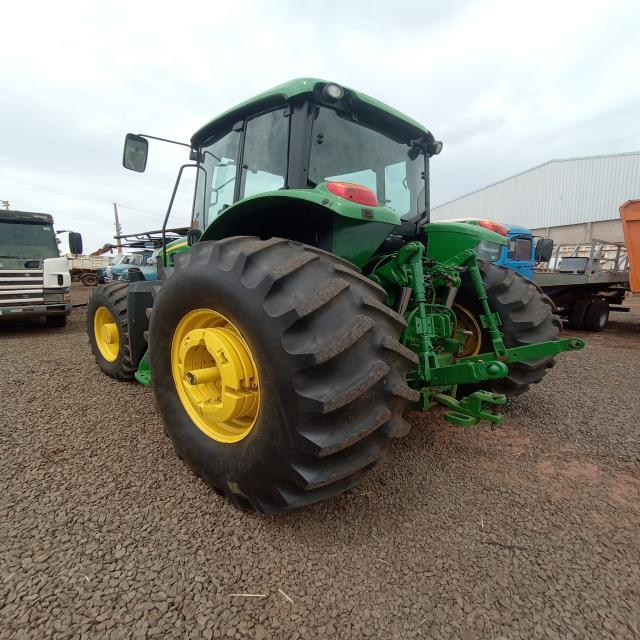Tratores - v5 YOLO V8L 2024-11-13: (88, 74, 588, 519)
